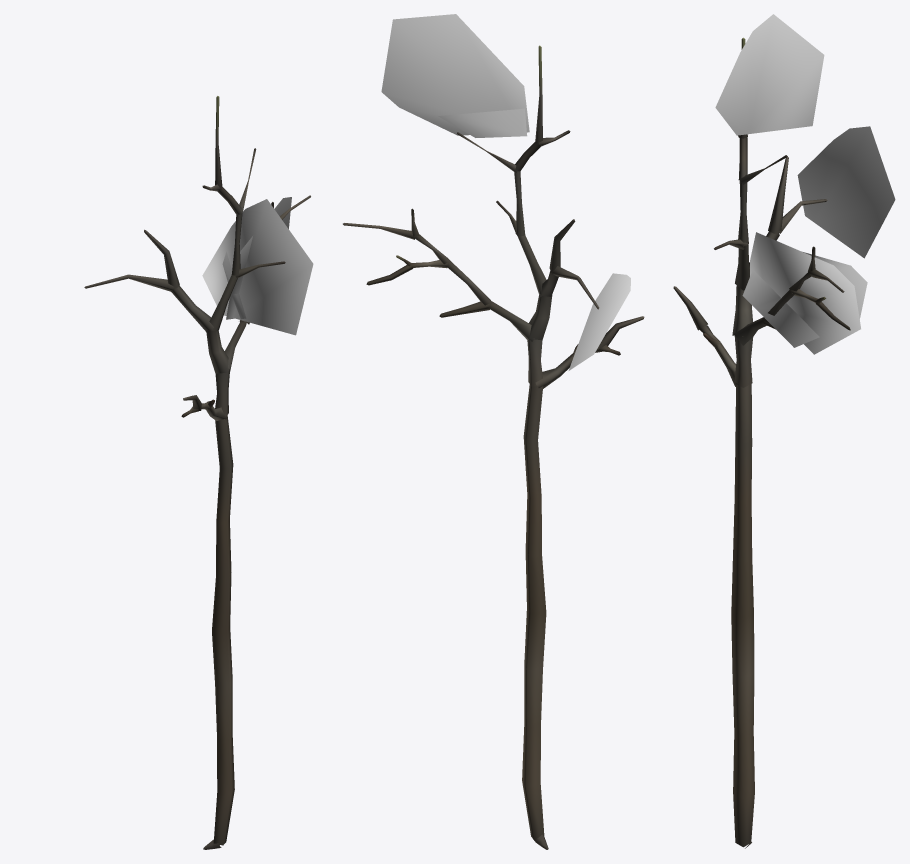
The model's file is sapling_1.glb.
3 renders of one model, left to right at view 1: azimuth 30°, elevation 25°; view 2: azimuth 150°, elevation 25°; view 3: azimuth 270°, elevation 25°, orthographic. The views are drawn at different scales.
Parts seen in each view (by area): view 1: sapling_1; view 2: sapling_1; view 3: sapling_1.
Boxes of the visible parts, left/top/right/bottom form: sapling_1: left=84, top=96, right=313, bottom=849; sapling_1: left=343, top=14, right=644, bottom=849; sapling_1: left=673, top=14, right=895, bottom=848.
Size of the model in its own units: 0.8634 by 2.29 by 0.5431.
